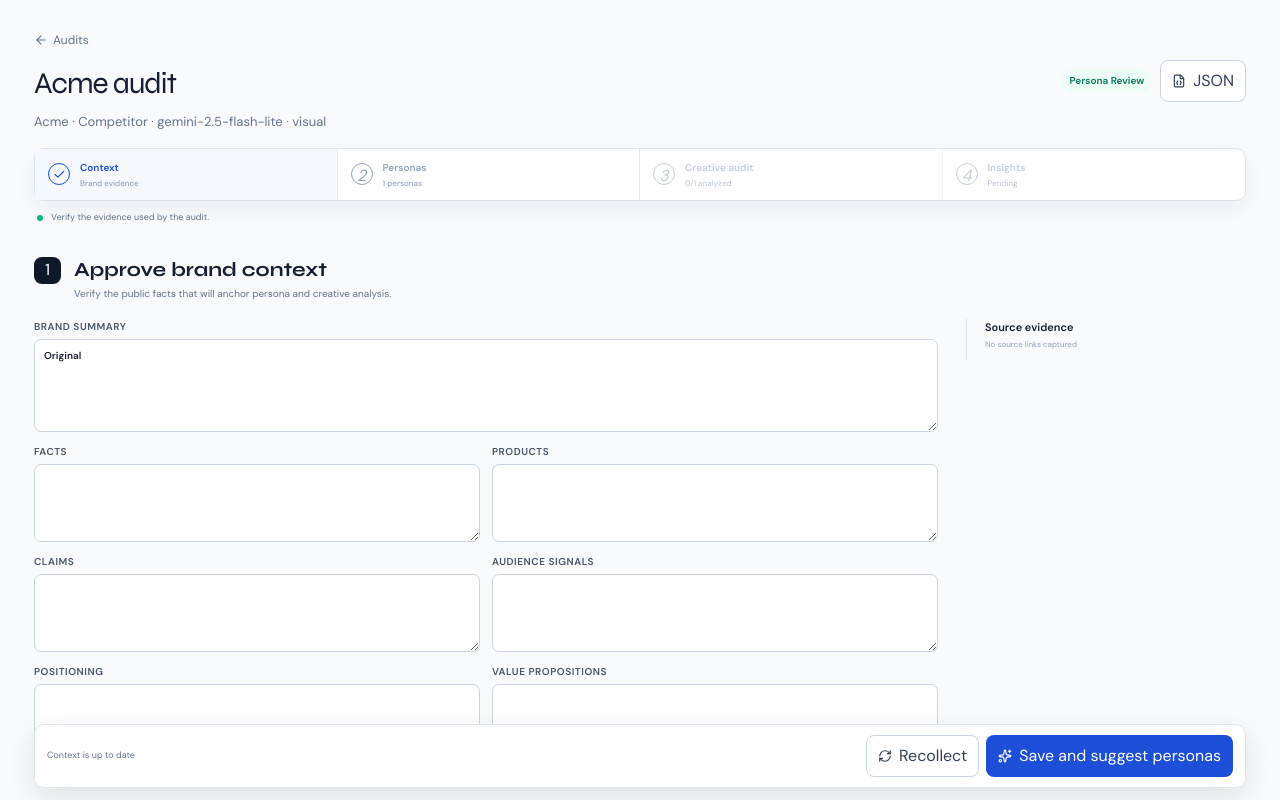
Test case: Ad Library audit workflow › protects unsaved context when moving to another available stage
The width and height of the screenshot is (1280, 800).
Replace the text in the text box labelled "Brand summary" with "Unsaved edit" at [486, 385], box [34,338,938,432]
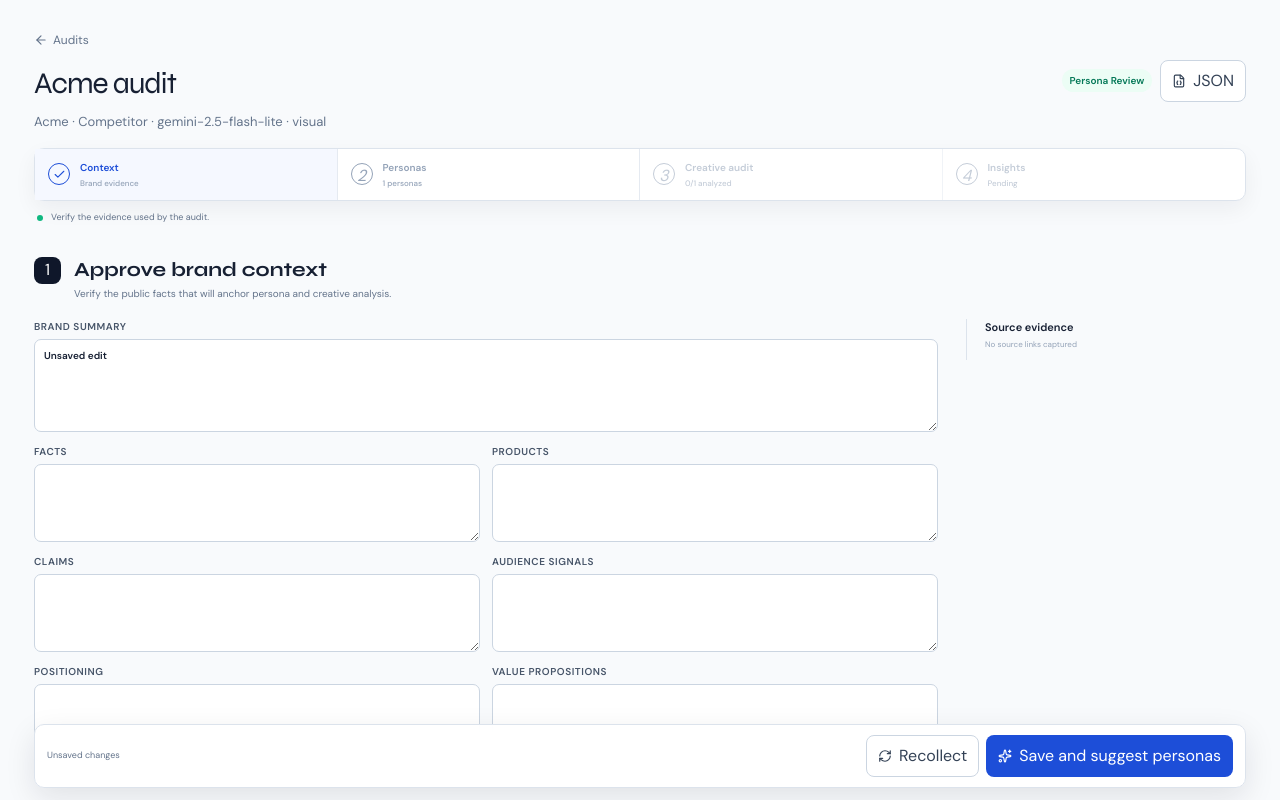
Click the button "2 Personas 1 personas" at [404, 167], box [338,148,640,200]
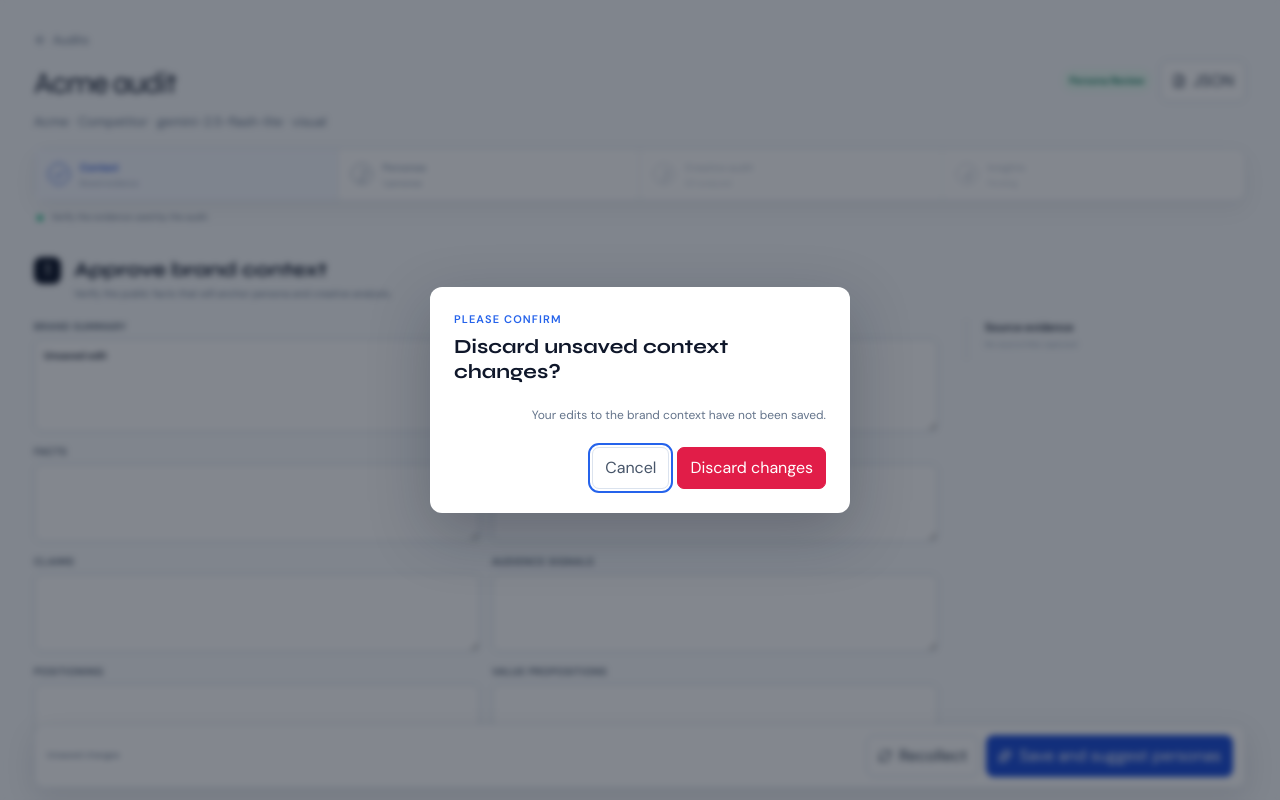
Result: the dialog "Discard unsaved context changes" is shown at [430,287,850,513]
